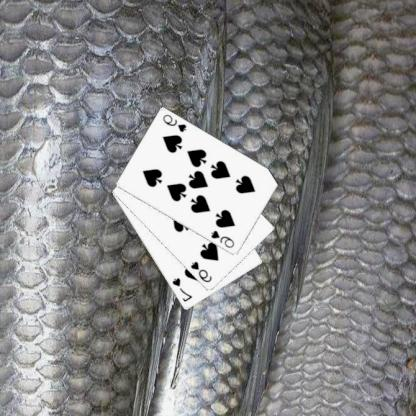6S: (189, 259, 215, 284)
7S: (172, 275, 196, 304)
9S: (162, 112, 190, 134), (210, 228, 238, 249)
